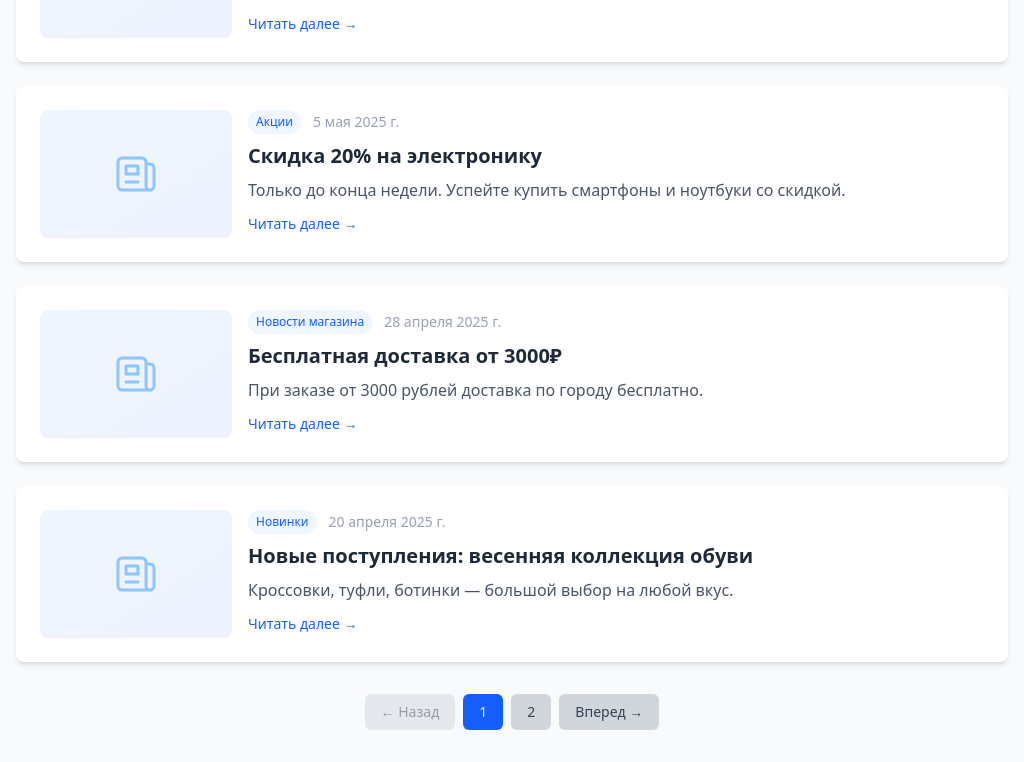
Test case: NewsPage › previous and next buttons navigate pages
(page scrolled)
Click the button with aria-label "Следующая страница" at (609, 712), box [559, 694, 659, 730]
(page scrolled)
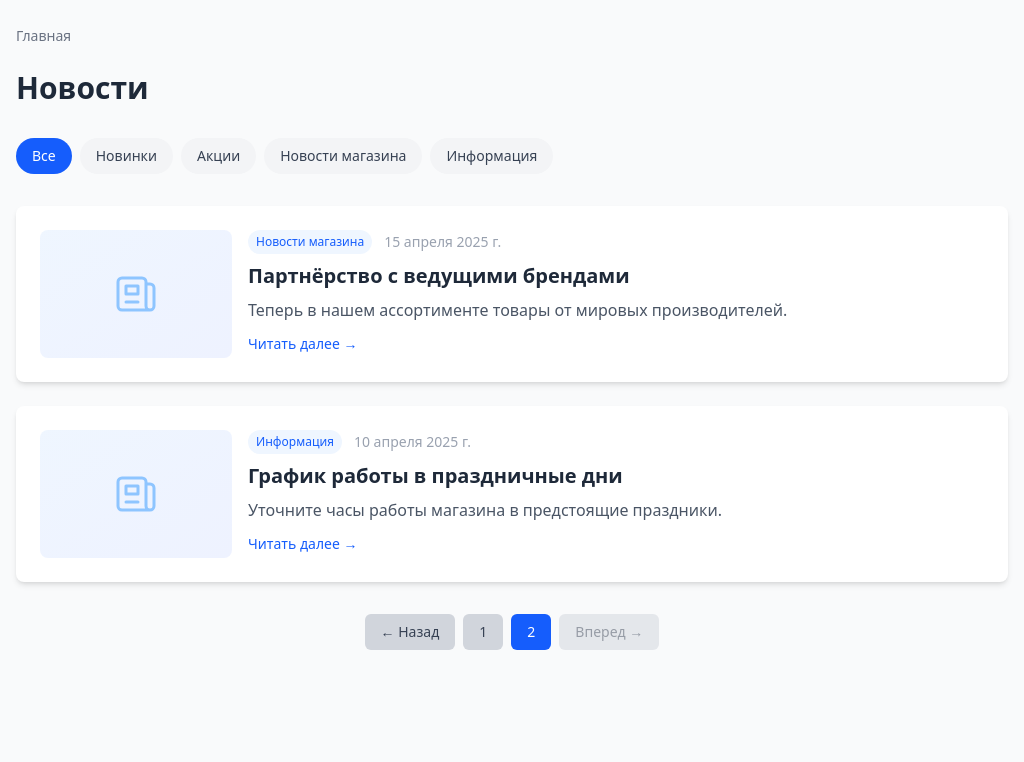
Result: the heading "Партнёрство с ведущими брендами" is shown at [248, 262, 630, 289]
Click the button with aria-label "Предыдущая страница" at (410, 632), box [365, 614, 455, 650]
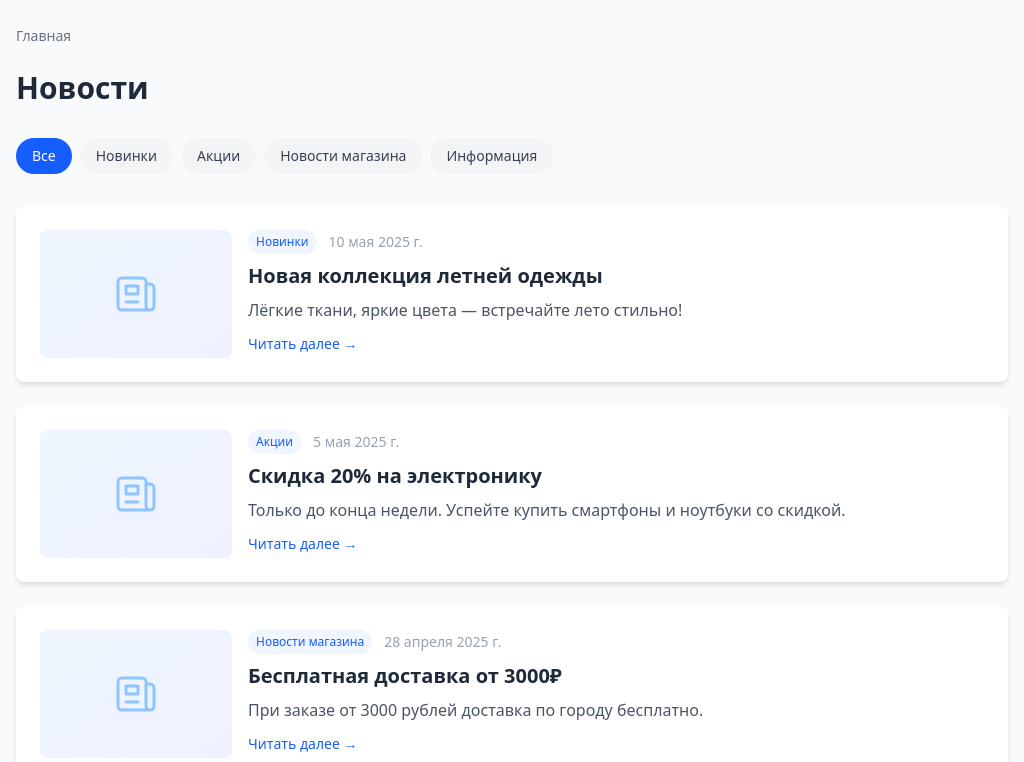
Result: the heading "Новая коллекция летней одежды" is shown at [248, 262, 603, 289]
